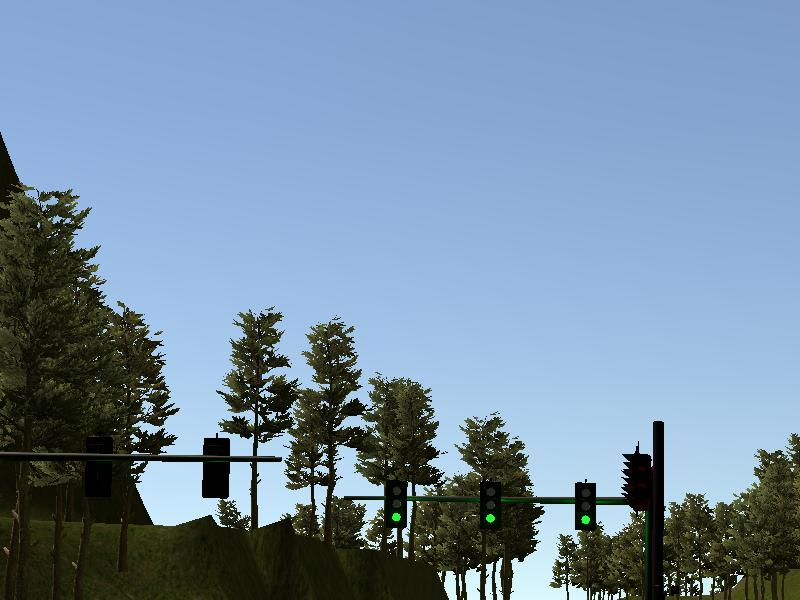Green: (385, 479, 406, 526), (575, 482, 595, 530), (482, 481, 500, 527)
